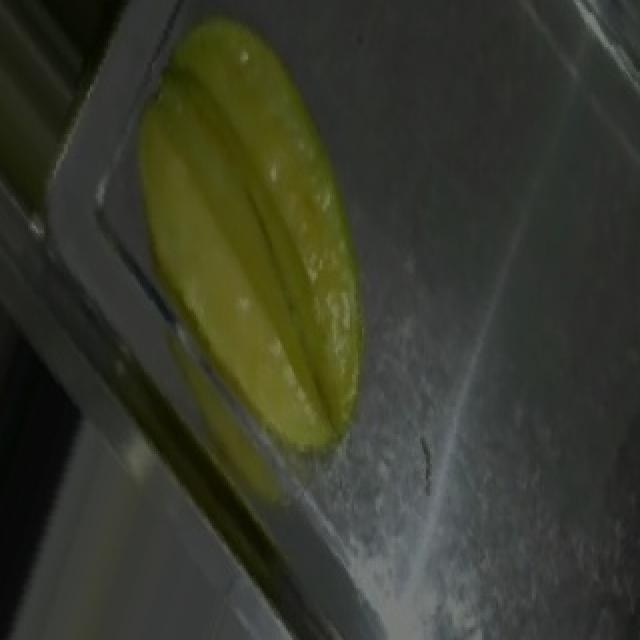fruit: (106, 5, 448, 444)
